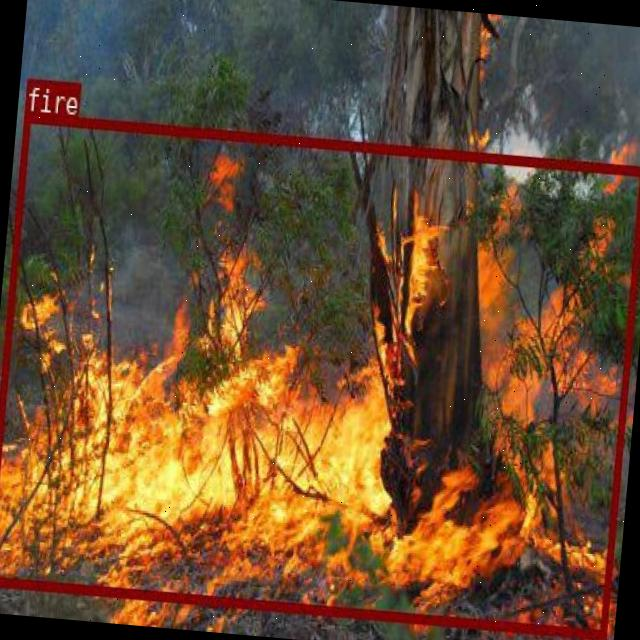fire: (0, 112, 640, 638)
